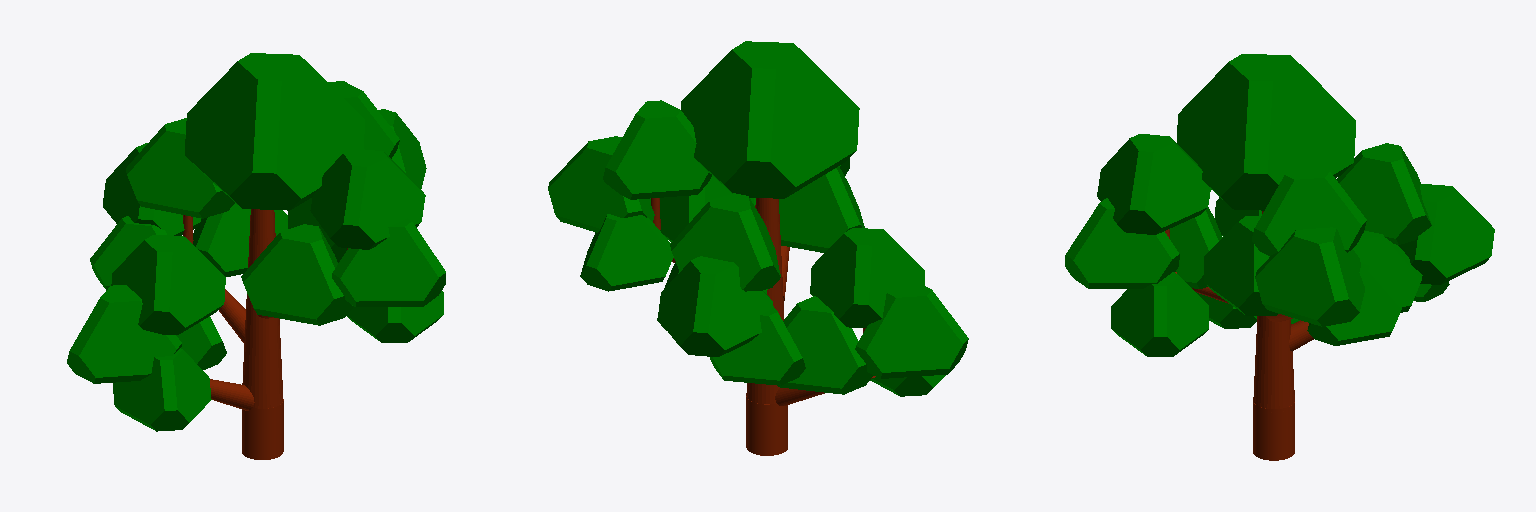
3 views of the same model, side by side, from view 1: azimuth 30°, elevation 25°; view 2: azimuth 150°, elevation 25°; view 3: azimuth 270°, elevation 25° (orthographic).
Bounding box in the file's own units: 13.03 × 12.66 × 12.7.
2 materials, 1 textured.